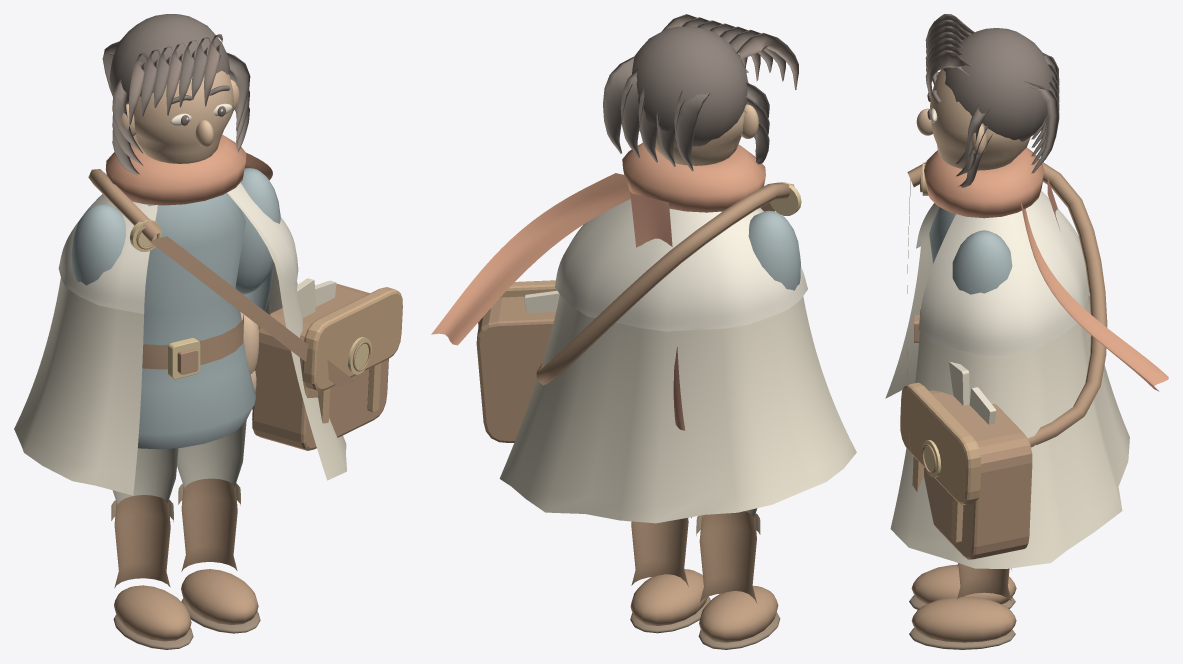
Rendered from character-nara.glb.
The picture shows the model from 3 angles, left to right: view 1: azimuth 30°, elevation 25°; view 2: azimuth 150°, elevation 25°; view 3: azimuth 270°, elevation 25°; orthographic projection. The views are drawn at different scales.
Parts seen in each view (by area): view 1: Group_1, Group_104, Group_47, Group_129, Group_9, Group_20, Group_29, Group_38, Group_18, Group_7, Group_40; view 2: Group_104, Group_1, Group_47, Group_129, Group_9, Group_20, Group_29; view 3: Group_104, Group_129, Group_47, Group_1, Group_20, Group_38, Group_9.
Boxes of the visible parts, x1,y1,x2,y2 form: Group_1: (88,134,356,449); Group_104: (14,182,346,495); Group_47: (102,14,250,175); Group_129: (252,278,402,450); Group_9: (111,495,193,649); Group_20: (178,478,260,633); Group_29: (71,203,125,285); Group_38: (236,168,280,294); Group_18: (177,420,246,490); Group_7: (112,448,178,506); Group_40: (240,264,273,391); Group_104: (499,199,856,523); Group_1: (431,142,801,430); Group_47: (603,14,798,171); Group_129: (476,280,559,442); Group_9: (696,511,780,649); Group_20: (627,517,710,633); Group_29: (748,210,800,290); Group_104: (885,190,1129,568); Group_129: (900,361,1032,559); Group_47: (916,14,1059,187); Group_1: (907,147,1168,463); Group_20: (909,563,1016,649); Group_38: (952,230,1012,294); Group_9: (909,563,1016,609).
Bounding box in the file's own units: 1.23 × 1.95 × 0.8481.
